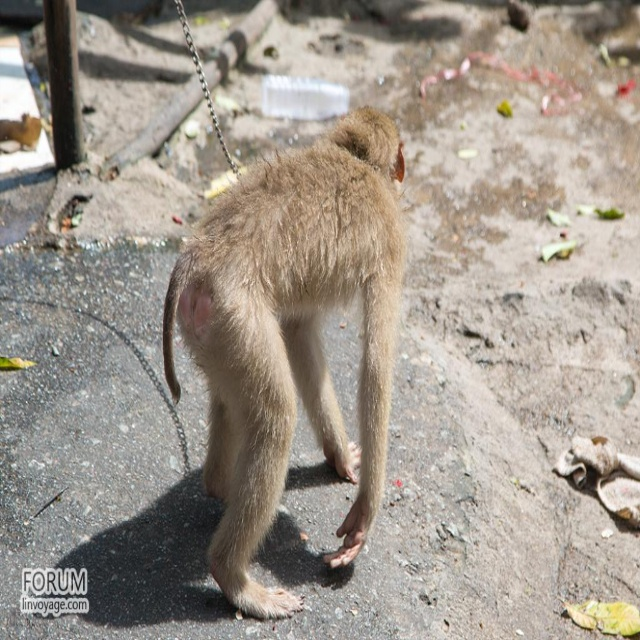Monkey: (152, 76, 410, 616)
